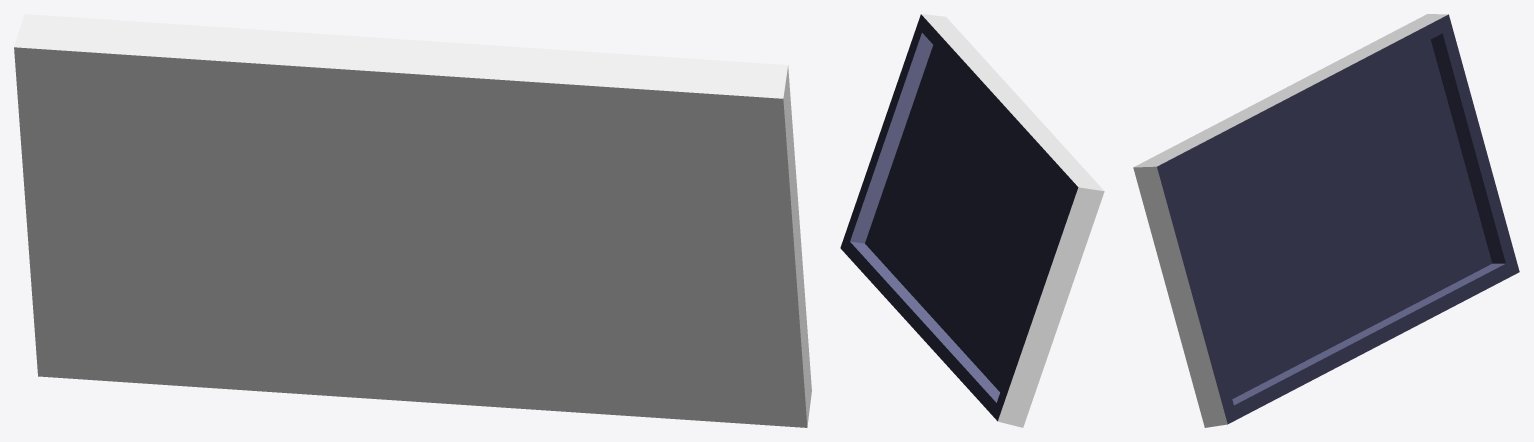
Rendered from TABLET.glb.
The picture shows the model from 3 angles, left to right: view 1: azimuth 30°, elevation 25°; view 2: azimuth 150°, elevation 25°; view 3: azimuth 270°, elevation 25°; orthographic projection. The views are drawn at different scales.
Parts seen in each view (by area): view 1: TABLET; view 2: TABLET; view 3: TABLET.
Part boxes in pixels (bbox=[...]): TABLET: bbox=[14, 14, 811, 427]; TABLET: bbox=[840, 14, 1104, 427]; TABLET: bbox=[1133, 14, 1519, 427].
Bounding box in the file's own units: 1.01 × 0.6234 × 0.8954.
